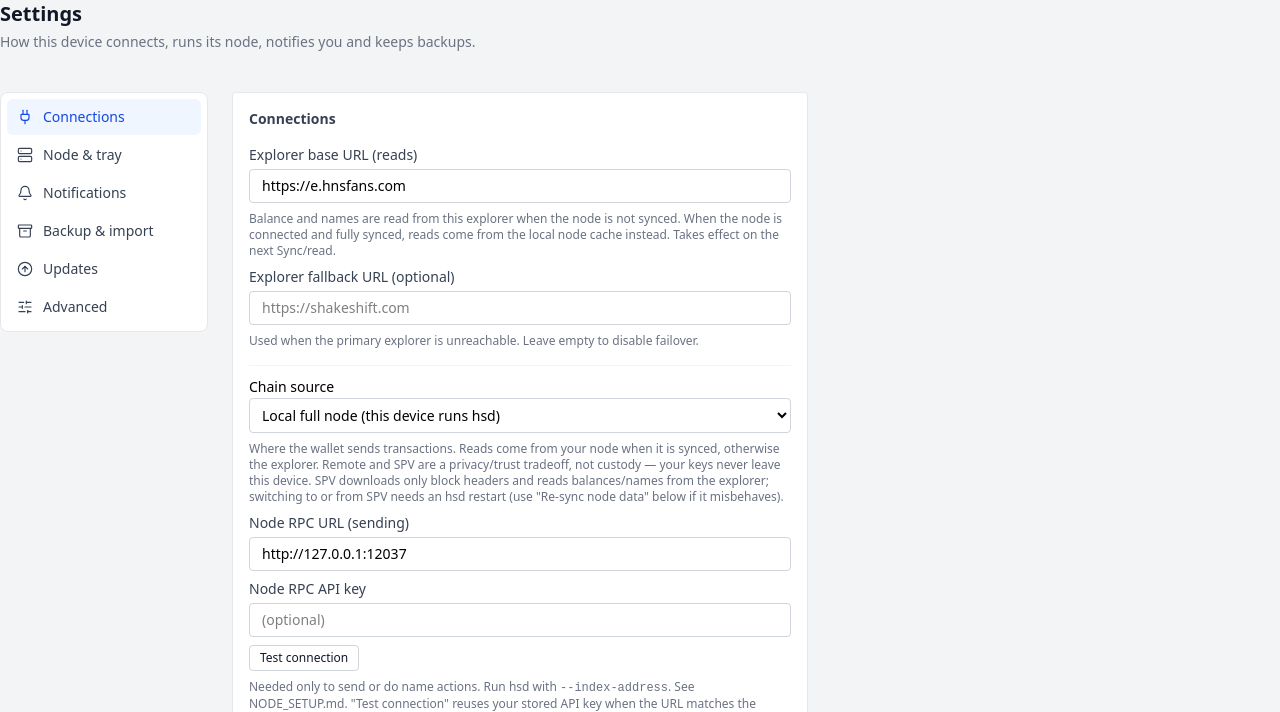
Scenario: Settings sections › marks the section holding an error, and Show opens it
Type "abc" into the field with test id "explorer-url-input".
click(520, 186); type("abc")  # box [249, 169, 791, 203]
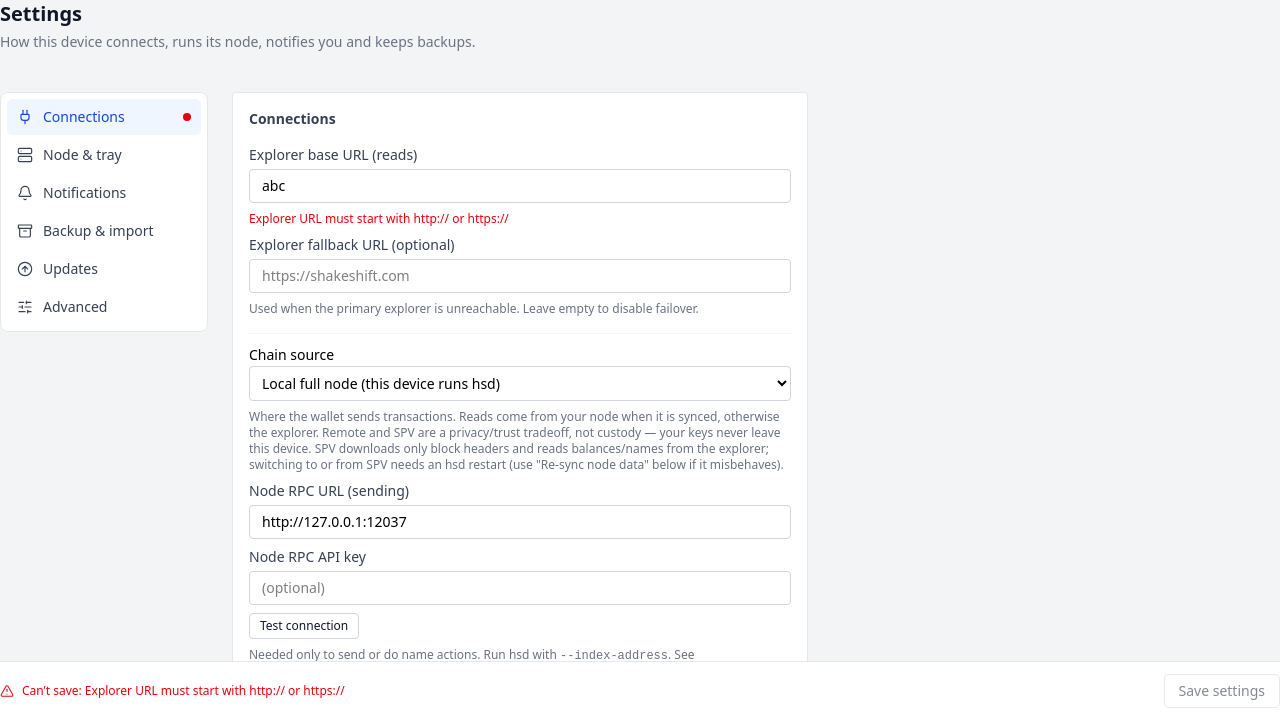
Click the button with test id "settings-section-notifications".
click(104, 193)  # box [7, 175, 201, 211]
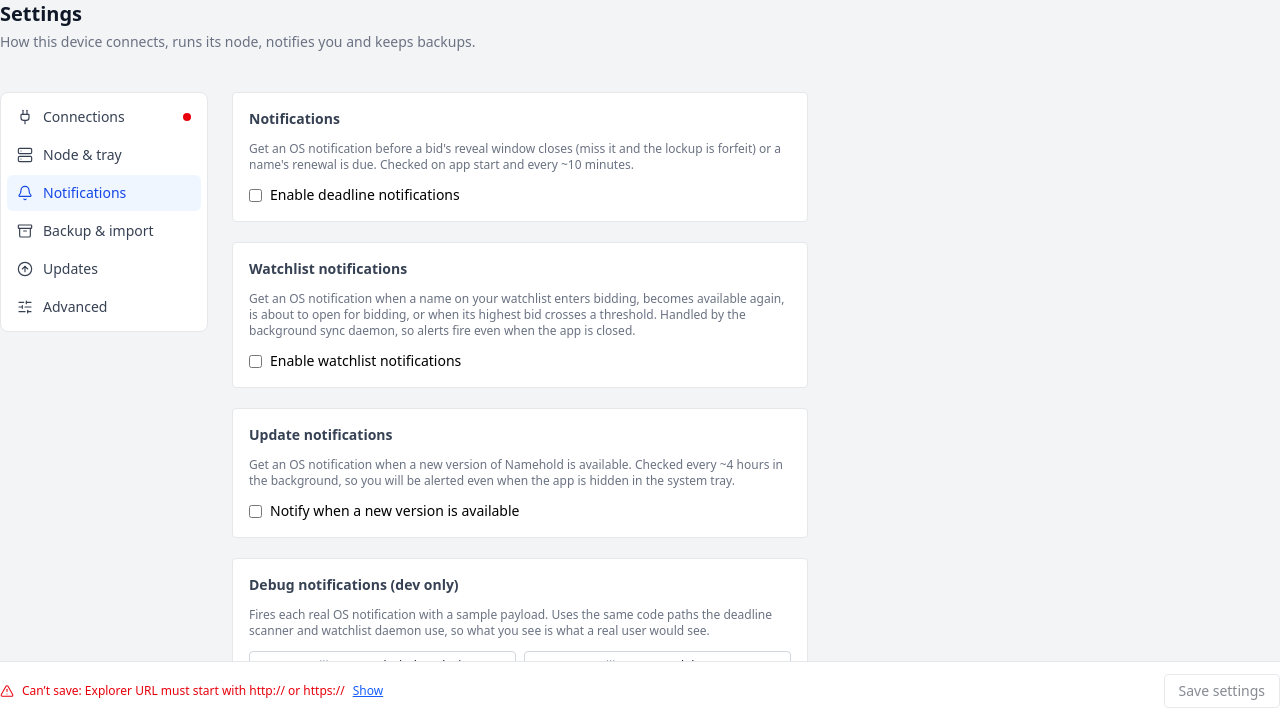
Now the element with test id "settings-section-error-connections" is shown, box [183, 113, 191, 121]
Now the element with test id "settings-save-blocked" shows "Can’t save: Explorer URL must start with http:// or https://", box [0, 683, 383, 699]
Now the button with test id "settings-save" is disabled, box [1164, 674, 1279, 708]
Click the button with test id "settings-save-blocked-show".
click(368, 691)  # box [353, 683, 383, 699]
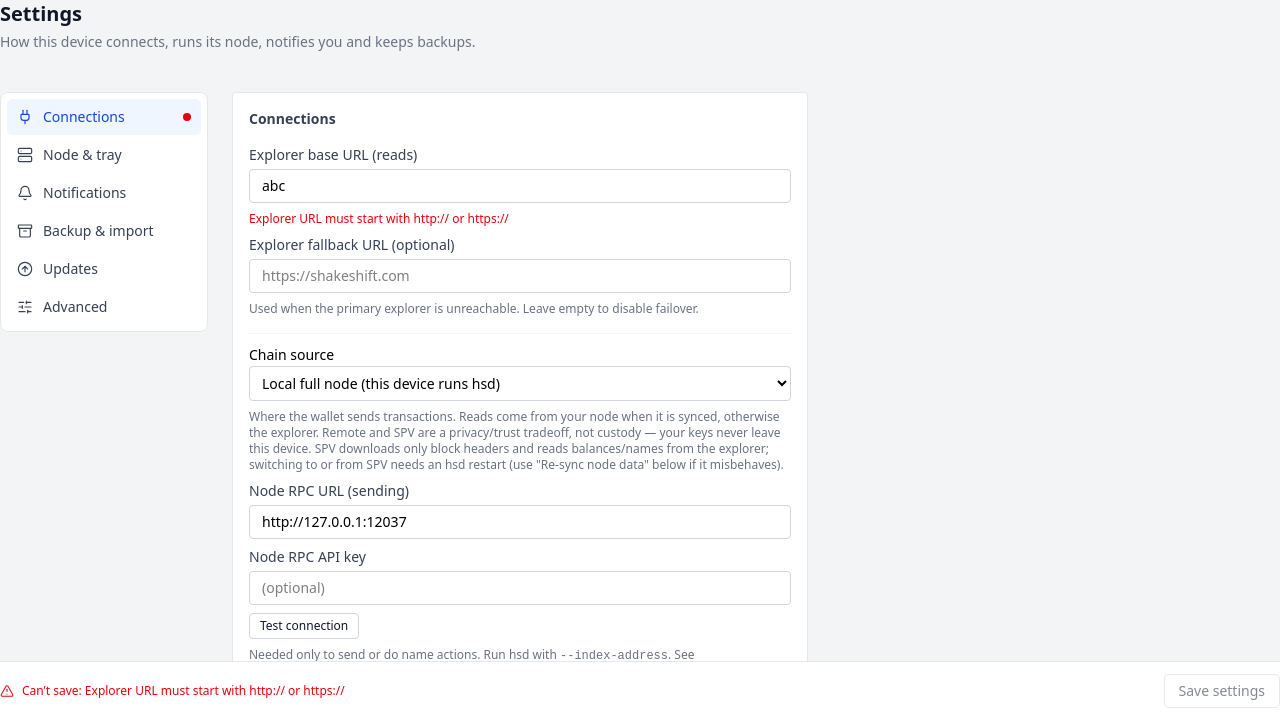
Now the button with test id "settings-save-blocked-show" is gone
